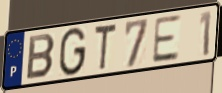1: (199, 9, 213, 58)
7: (123, 17, 150, 70)
B: (25, 33, 57, 82)
E: (150, 13, 182, 65)
G: (57, 26, 88, 78)
T: (92, 22, 118, 73)
